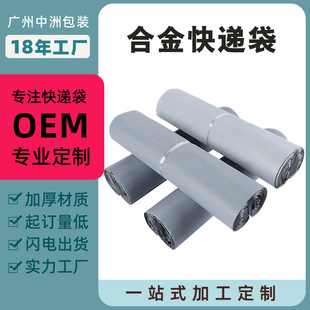Parcel: (104, 89, 303, 249)
